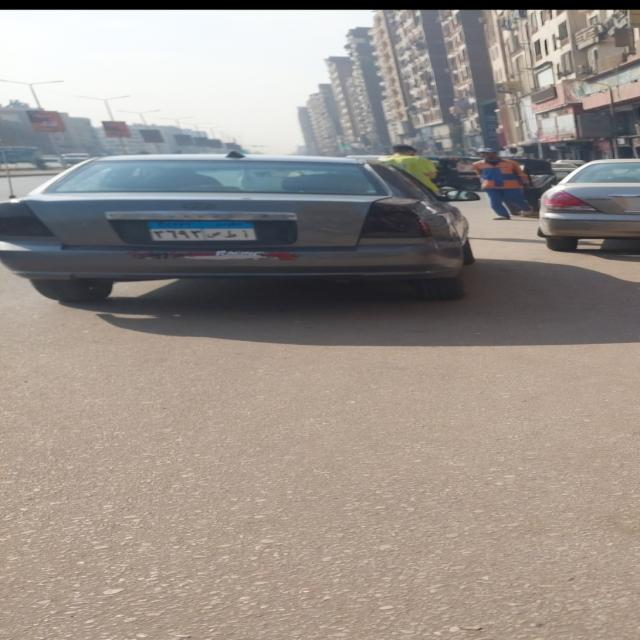car-plate: (150, 222, 256, 240)
